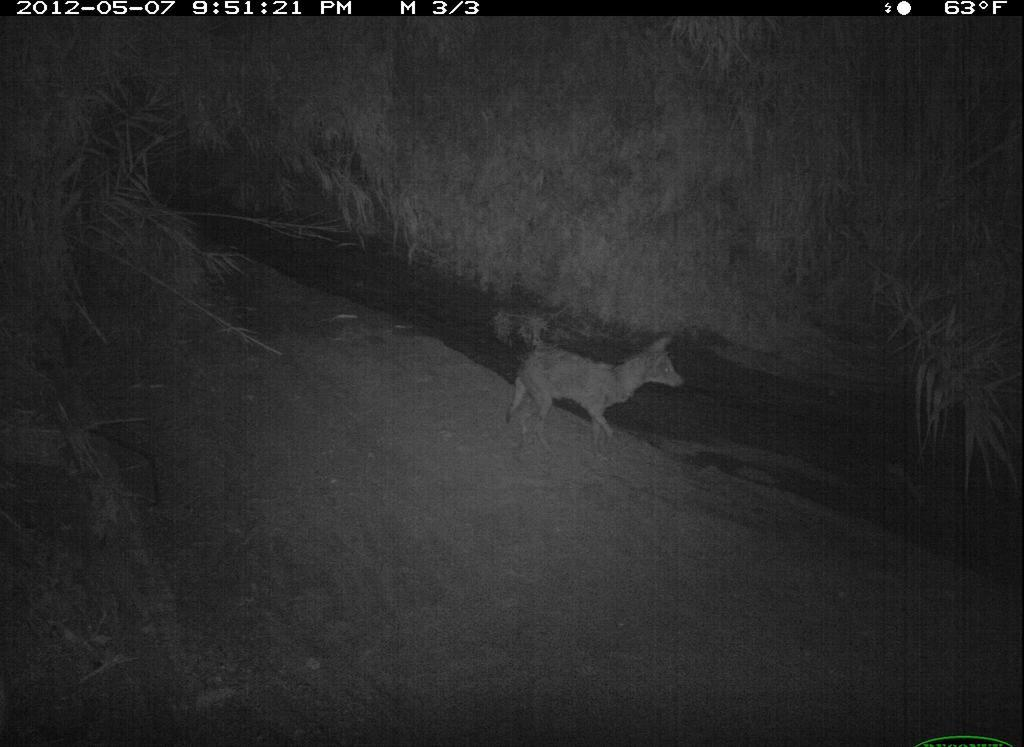coyote: (997, 660, 1024, 747)
